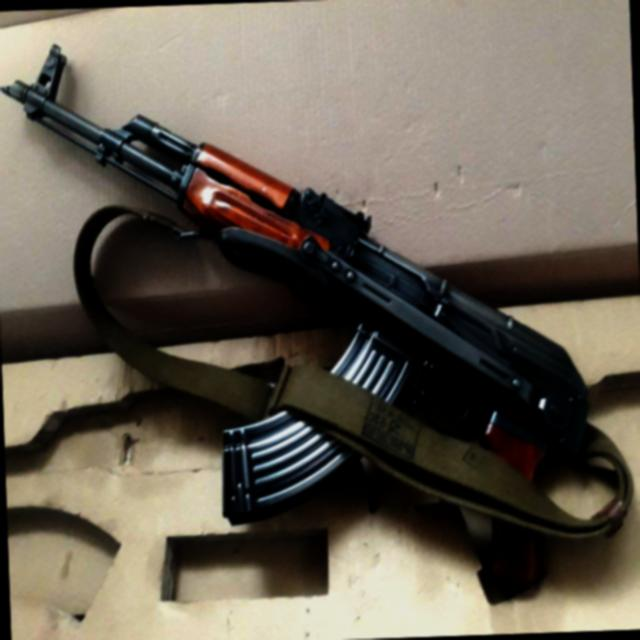ak: (0, 24, 594, 614)
